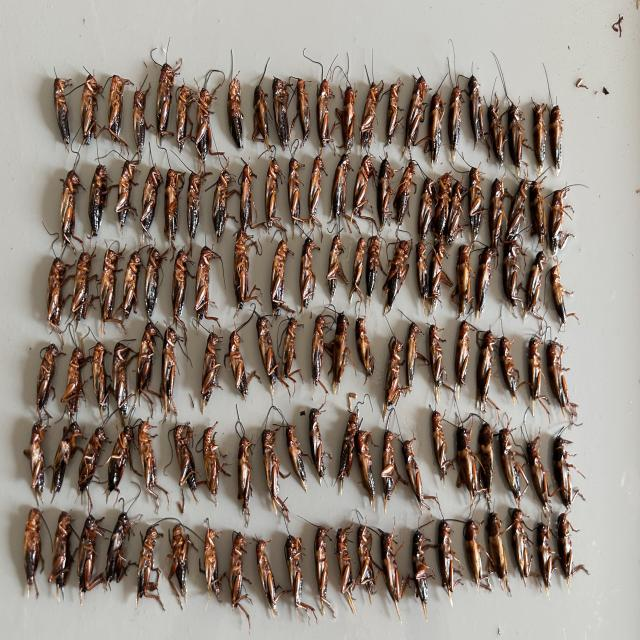no egg: (203, 443, 229, 506), (337, 545, 356, 613), (136, 549, 156, 607), (37, 356, 55, 417), (489, 534, 509, 586), (205, 553, 226, 601), (133, 105, 152, 157), (253, 104, 274, 151), (168, 552, 189, 599), (457, 447, 478, 494), (271, 263, 290, 314), (196, 106, 212, 165), (288, 173, 304, 232), (394, 177, 412, 229), (88, 185, 106, 236), (141, 174, 157, 231), (265, 174, 281, 231), (283, 335, 302, 383), (381, 445, 396, 505), (430, 343, 446, 399), (383, 557, 400, 609), (269, 452, 286, 504), (415, 556, 429, 619), (259, 562, 277, 611), (476, 353, 492, 407), (156, 93, 172, 146), (100, 269, 116, 322), (456, 264, 472, 317), (501, 452, 521, 494), (81, 95, 98, 144), (212, 184, 227, 239), (201, 356, 216, 411), (550, 365, 569, 408), (384, 265, 401, 313), (431, 426, 447, 477), (61, 187, 75, 245), (466, 544, 484, 589), (51, 441, 66, 495), (503, 362, 523, 402), (480, 445, 494, 502), (316, 557, 330, 613), (359, 455, 375, 503), (61, 363, 80, 403), (531, 464, 549, 506), (526, 264, 542, 311), (123, 266, 137, 319), (307, 436, 325, 477), (352, 171, 368, 217), (141, 444, 157, 490), (558, 531, 574, 577), (438, 544, 453, 593), (359, 551, 376, 594), (240, 182, 254, 233), (177, 445, 194, 487), (326, 253, 340, 303), (357, 335, 374, 376), (94, 365, 109, 411), (338, 436, 354, 479), (31, 447, 45, 496), (537, 542, 552, 587), (555, 463, 571, 505), (456, 336, 469, 387), (116, 186, 131, 230), (276, 104, 290, 151), (469, 186, 482, 236), (506, 203, 524, 239), (311, 335, 323, 389), (416, 257, 431, 300), (503, 265, 518, 308), (289, 560, 303, 606), (108, 97, 122, 142), (56, 105, 71, 146), (475, 264, 490, 305), (299, 264, 313, 307), (228, 108, 243, 148), (164, 194, 177, 240), (350, 254, 364, 296), (114, 365, 128, 407), (332, 176, 346, 217), (552, 282, 566, 323), (529, 363, 544, 401), (187, 192, 199, 239), (434, 197, 448, 237), (551, 126, 562, 176), (146, 266, 157, 316), (176, 108, 189, 150), (418, 193, 431, 235), (290, 453, 306, 487), (491, 204, 503, 249), (362, 107, 375, 148), (470, 102, 483, 143), (378, 183, 391, 224), (407, 102, 421, 140), (530, 205, 544, 243), (447, 205, 461, 243), (317, 97, 329, 141), (534, 126, 546, 168), (232, 560, 242, 608), (298, 106, 310, 145), (551, 217, 564, 253), (406, 345, 417, 387), (233, 355, 245, 393), (310, 181, 321, 222), (343, 104, 354, 144), (449, 114, 461, 150), (493, 126, 504, 165), (239, 465, 250, 503), (431, 265, 443, 299), (413, 463, 423, 502), (366, 266, 377, 297), (387, 104, 397, 137), (513, 134, 522, 164), (431, 126, 440, 155), (316, 106, 321, 138)
